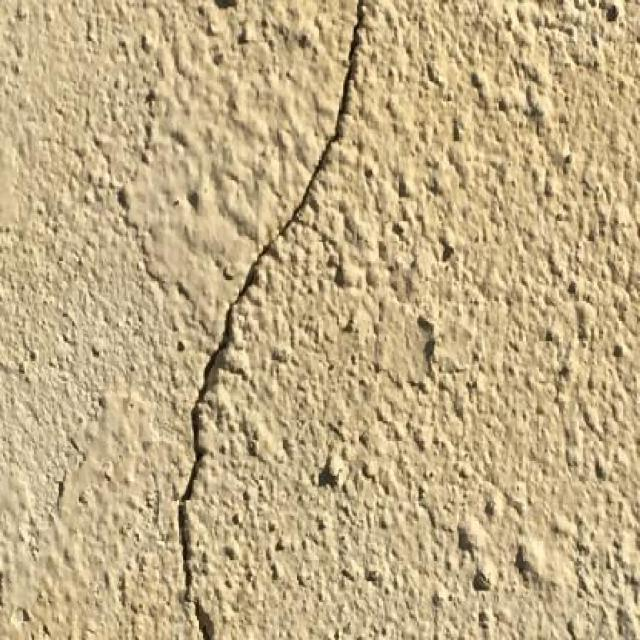Crack: (174, 0, 370, 639), (239, 20, 365, 291), (181, 284, 258, 506), (327, 1, 374, 146), (176, 472, 216, 638), (183, 396, 211, 494), (176, 495, 196, 581)
